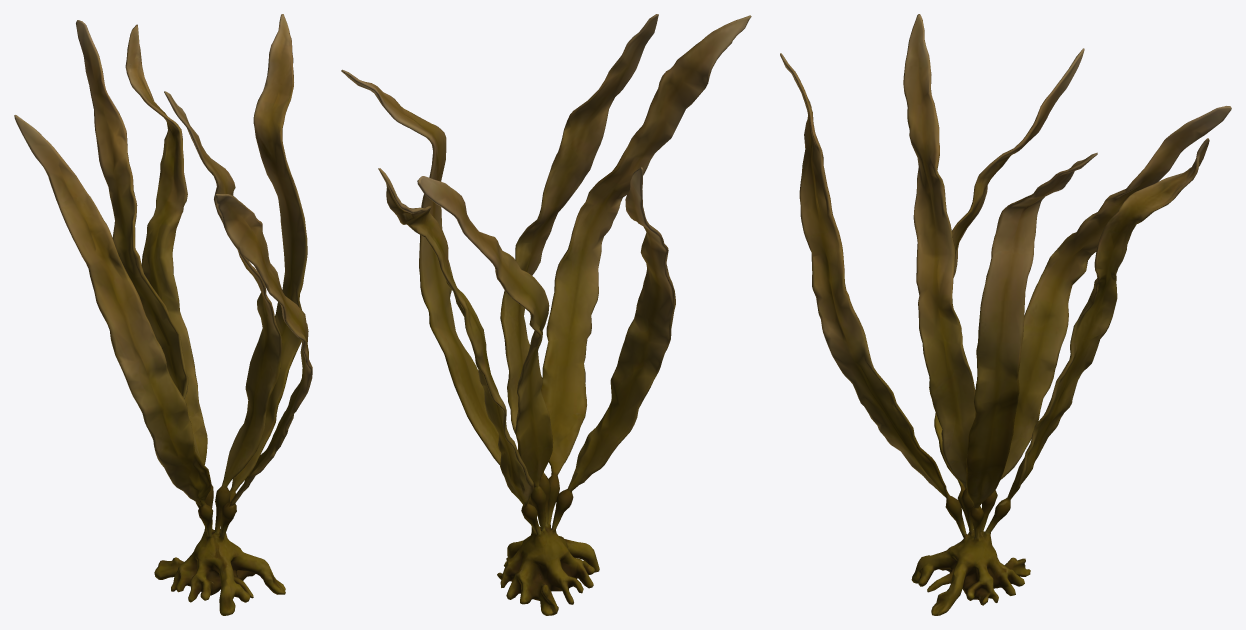
The model's file is tang.glb.
3 views of the same model, side by side, from view 1: azimuth 30°, elevation 25°; view 2: azimuth 150°, elevation 25°; view 3: azimuth 270°, elevation 25° (orthographic). The views are drawn at different scales.
Size of the model in its own units: 0.5342 by 0.9983 by 0.7573.
1 material, 1 textured.
